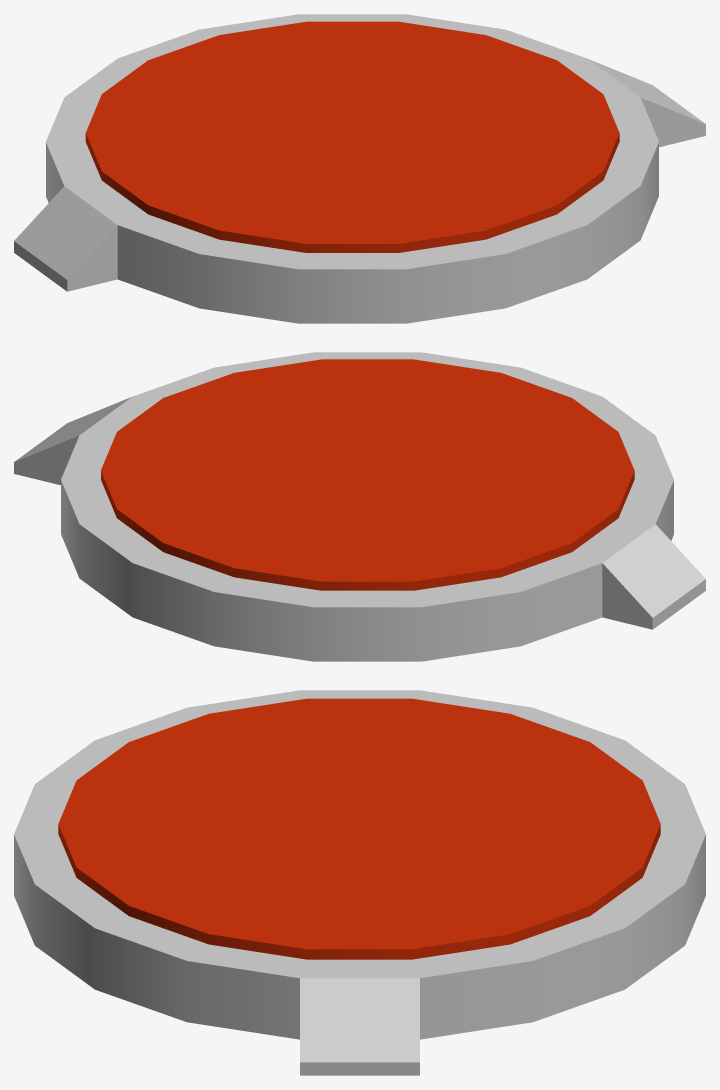
Rendered from Button.fbx.
3 views of the same model, one above another, from view 1: azimuth 30°, elevation 25°; view 2: azimuth 150°, elevation 25°; view 3: azimuth 270°, elevation 25° (orthographic). The views are drawn at different scales.
Parts seen in each view (by area): view 1: Body, ButtonBase; view 2: Body, ButtonBase; view 3: Body, ButtonBase.
Boxes of the visible parts, x1,y1,x2,y2 form: Body: (85, 21, 619, 252); ButtonBase: (14, 14, 705, 323); Body: (101, 359, 634, 590); ButtonBase: (14, 352, 705, 661); Body: (58, 698, 660, 959); ButtonBase: (14, 690, 705, 1075).
Size of the model in its own units: 276 by 230 by 26.26.
